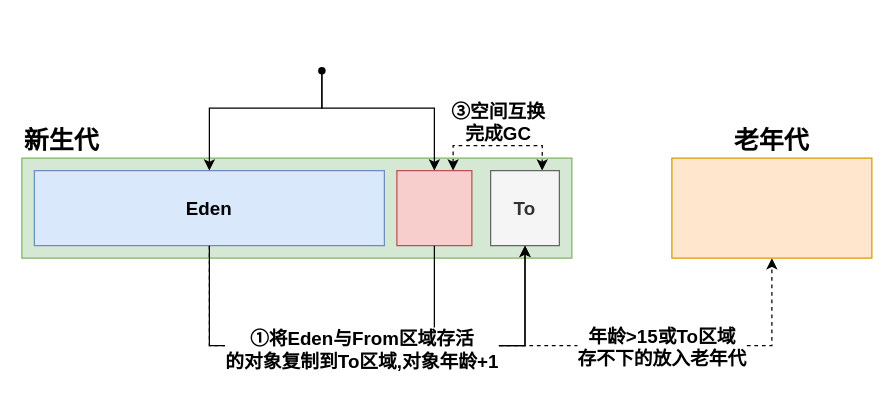
Image size: 894x393. Some labels were removed from this diagram. The shapes that lost their labels are listed below. From the top down, each one's centre as x and y in pixels, then its label:
At point 321,70: "②清空区域".
At point 434,207: "From".
